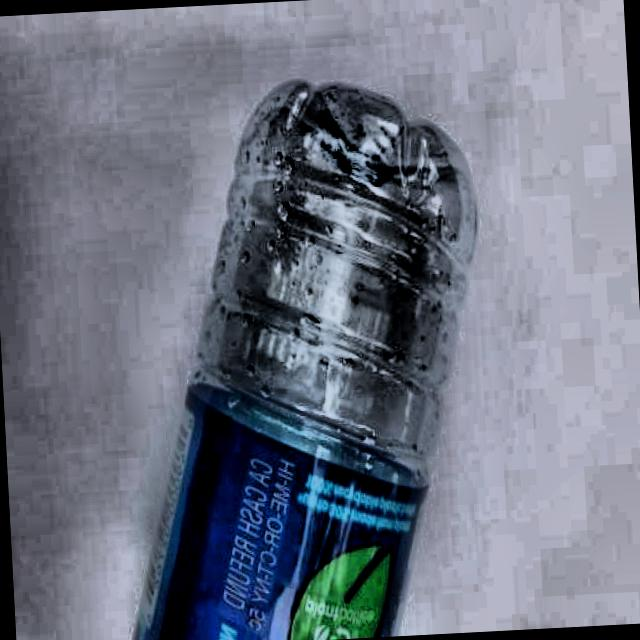plastic bottle: (134, 81, 477, 640)
